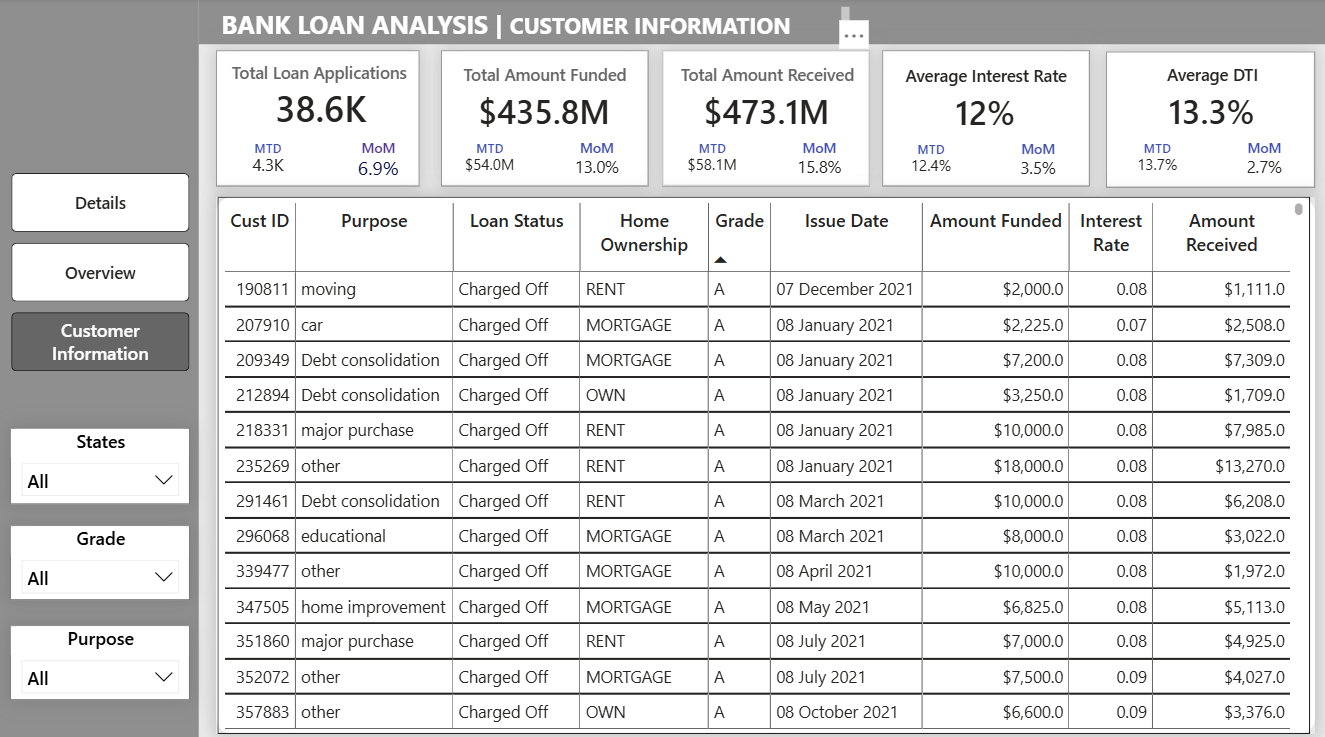

This screenshot's page, from the dashboard's own definition file:
{"tool":"powerbi","page":{"name":"Customer Information","canvas":[1280,720],"ordinal":2},"visuals":[{"type":"shape","box":[191.8,0,1088.2,44.6],"z":0},{"type":"textbox","box":[209.9,55.6,196.3,34.1],"z":0,"group":"g1"},{"type":"textbox","box":[430.3,58,190.6,33.6],"z":0,"group":"g2"},{"type":"textbox","box":[645.1,58,190.6,33.6],"z":0,"group":"g3"},{"type":"textbox","box":[1074.8,58,190.6,33.6],"z":0,"group":"g5"},{"type":"textbox","box":[856.3,59.3,190.6,33.6],"z":0,"group":"g4"},{"type":"shape","box":[0,0,191.8,720.2],"z":1000},{"type":"card","fields":{"Values":["bank_loan_data.Total Loan Applications"]},"box":[225.1,84.9,168.4,44.6],"z":1000,"group":"g1"},{"type":"card","fields":{"Values":["bank_loan_data.Total Amount Funded"]},"box":[429.6,86,191.8,48.3],"z":1000,"group":"g2"},{"type":"card","fields":{"Values":["_Measures.Total Amount Received"]},"box":[644.4,86,191.8,48.3],"z":1000,"group":"g3"},{"type":"card","fields":{"Values":["_Measures.Average DTI"]},"box":[1074.1,86,191.8,48.3],"z":1000,"group":"g5"},{"type":"card","fields":{"Values":["_Measures.Average Interest Rate"]},"box":[855.6,87.3,191.8,48.3],"z":1000,"group":"g4"},{"type":"shape","box":[1067.9,51.9,201.2,130.9],"z":2000},{"type":"card","title":"MTD","fields":{"Values":["_Measures.MTD Total Amount Funded"]},"box":[437.5,136.4,70,36.2],"z":2000,"group":"g2"},{"type":"card","title":"MTD","fields":{"Values":["_Measures.MTD Total Amount Received"]},"box":[652.3,136.4,70,36.2],"z":2000,"group":"g3"},{"type":"card","title":"MTD","fields":{"Values":["_Measures.MTD Average DTI"]},"box":[1082,136.4,70,36.2],"z":2000,"group":"g5"},{"type":"card","title":"MTD","fields":{"Values":["bank_loan_data.MTD Loan Applications"]},"box":[227.2,136.6,63.9,37.4],"z":2000,"group":"g1"},{"type":"card","title":"MTD","fields":{"Values":["_Measures.MTD Interest Rate"]},"box":[863.5,137.7,70,36.2],"z":2000,"group":"g4"},{"type":"shape","box":[208.6,50.6,196.3,130.9],"z":3000},{"type":"card","title":"MoM","fields":{"Values":["_Measures.MoM Total Amount Funded"]},"box":[541.3,135.2,68.8,41],"z":3000,"group":"g2"},{"type":"card","title":"MoM","fields":{"Values":["_Measures.MoM Total Amount Received"]},"box":[756.1,135.2,68.8,41],"z":3000,"group":"g3"},{"type":"card","title":"MoM","fields":{"Values":["_Measures.MoM Average DTI"]},"box":[1185.8,135.2,68.8,41],"z":3000,"group":"g5"},{"type":"card","title":"MoM","fields":{"Values":["bank_loan_data.MoM Loan Applications"]},"box":[334.3,135.6,62.2,42.2],"z":3000,"group":"g1"},{"type":"card","title":"MoM","fields":{"Values":["_Measures.MoM Average Interest Rate"]},"box":[967.3,136.5,68.8,41],"z":3000,"group":"g4"},{"type":"shape","box":[425.9,50.6,200,130.9],"z":4000},{"type":"textbox","box":[208.7,3.6,616.5,41],"z":5000},{"type":"group","id":"g1","title":"Group 1","box":[209.9,55.6,196.3,122.2],"z":6000},{"type":"group","id":"g2","title":"Group 1","box":[429.6,58,192.6,117.3],"z":7000},{"type":"shape","box":[639.5,50.6,200,130.9],"z":8000},{"type":"group","id":"g3","title":"Group 1","box":[644.4,58,191.4,119.8],"z":9000},{"type":"shape","box":[851.9,50.6,200,130.9],"z":10000},{"type":"group","id":"g4","title":"Group 1","box":[855.6,59.3,191.4,119.8],"z":11000},{"type":"group","id":"g5","title":"Group 1","box":[1074.1,58,190.1,119.8],"z":12000},{"type":"shape","box":[208.7,191.8,1060.5,518.8],"z":13000},{"type":"tableEx","fields":{"Values":["bank_loan_data.id","bank_loan_data.purpose","bank_loan_data.loan_status","bank_loan_data.home_ownership","bank_loan_data.grade","bank_loan_data.issue_date","_Measures.Total Amount Funded","Sum(bank_loan_data.int_rate)","_Measures.Total Amount Received"]},"box":[209.9,191.8,1054.4,518.8],"z":14000},{"type":"slicer","title":"States","fields":{"Values":["bank_loan_data.address_state"]},"box":[9.7,415,173.7,73.6],"z":15000},{"type":"slicer","title":"Grade","fields":{"Values":["bank_loan_data.grade"]},"box":[9.7,509.1,173.7,72.4],"z":16000},{"type":"slicer","title":"Purpose","fields":{"Values":["bank_loan_data.purpose"]},"box":[9.7,605.6,173.7,72.4],"z":17000},{"type":"pageNavigator","box":[10.9,168.9,172.5,191.8],"z":18000}]}

Visuals, with their boxes in screenshot pixels (x1, y1, x2, y2), scaled from the page's 1280x720 canvas onto the 1325x737 screenshot:
shape: Rect(199, 0, 1324, 46)
textbox: Rect(217, 57, 420, 92)
textbox: Rect(445, 59, 643, 94)
textbox: Rect(668, 59, 865, 94)
textbox: Rect(1113, 59, 1310, 94)
textbox: Rect(886, 61, 1084, 95)
shape: Rect(0, 0, 199, 736)
card - bank_loan_data.Total Loan Applications: Rect(233, 87, 407, 133)
card - bank_loan_data.Total Amount Funded: Rect(445, 88, 643, 137)
card - _Measures.Total Amount Received: Rect(667, 88, 866, 137)
card - _Measures.Average DTI: Rect(1112, 88, 1310, 137)
card - _Measures.Average Interest Rate: Rect(886, 89, 1084, 139)
shape: Rect(1105, 53, 1314, 187)
"MTD" card: Rect(453, 140, 525, 177)
"MTD" card: Rect(675, 140, 748, 177)
"MTD" card: Rect(1120, 140, 1192, 177)
"MTD" card: Rect(235, 140, 301, 178)
"MTD" card: Rect(894, 141, 966, 178)
shape: Rect(216, 52, 419, 186)
"MoM" card: Rect(560, 138, 632, 180)
"MoM" card: Rect(783, 138, 854, 180)
"MoM" card: Rect(1227, 138, 1299, 180)
"MoM" card: Rect(346, 139, 410, 182)
"MoM" card: Rect(1001, 140, 1073, 182)
shape: Rect(441, 52, 648, 186)
textbox: Rect(216, 4, 854, 46)
"Group 1" group: Rect(217, 57, 420, 182)
"Group 1" group: Rect(445, 59, 644, 179)
shape: Rect(662, 52, 869, 186)
"Group 1" group: Rect(667, 59, 865, 182)
shape: Rect(882, 52, 1089, 186)
"Group 1" group: Rect(886, 61, 1084, 183)
"Group 1" group: Rect(1112, 59, 1309, 182)
shape: Rect(216, 196, 1314, 727)
tableEx - bank_loan_data.id x bank_loan_data.purpose: Rect(217, 196, 1309, 727)
"States" slicer: Rect(10, 425, 190, 500)
"Grade" slicer: Rect(10, 521, 190, 595)
"Purpose" slicer: Rect(10, 620, 190, 694)
pageNavigator: Rect(11, 173, 190, 369)
